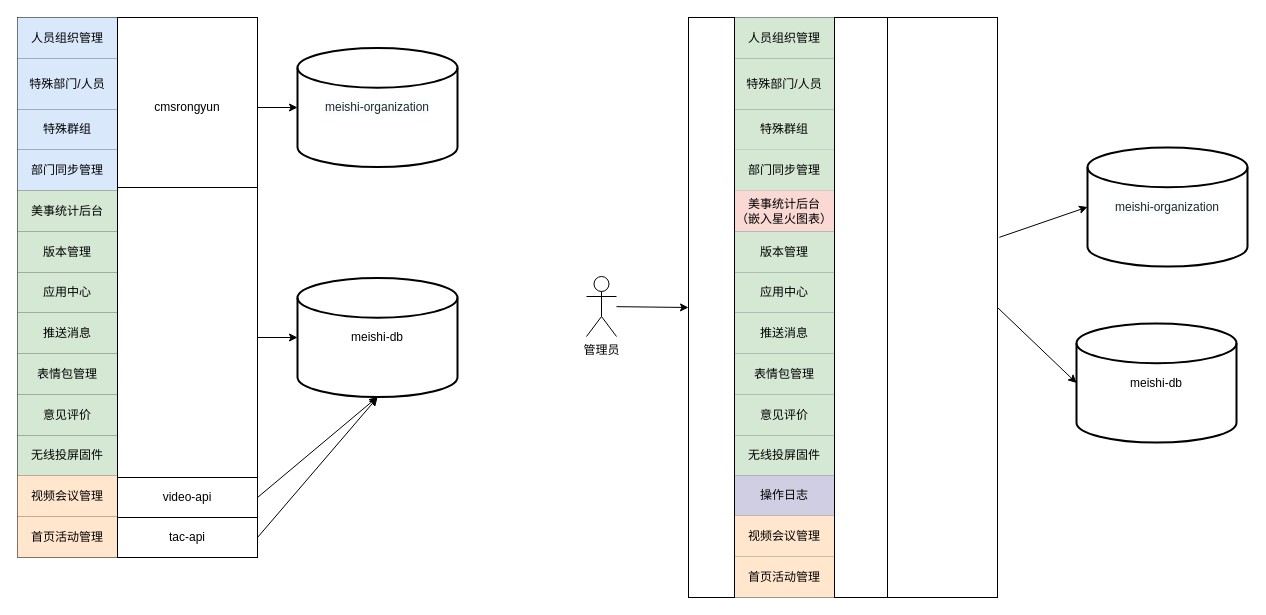
Some shapes in this 1266 by 615 pixel diagram are drawn without their labels. The box of each missing label's shape, as (x1, y1, x2, y2) in pixels:
cms-api: (116, 186, 258, 488)
cms-union-api: (886, 16, 998, 598)
Operate Log: (834, 16, 888, 598)
SSO: (688, 16, 734, 598)
